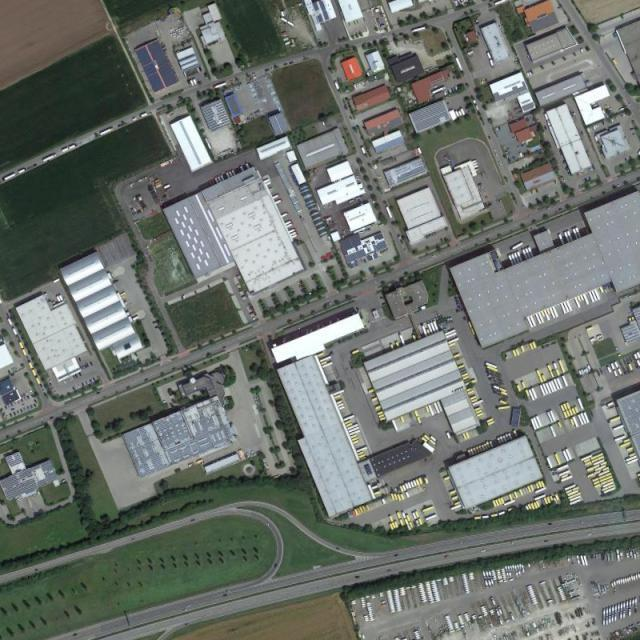vehicle: (99, 127, 114, 136), (43, 153, 57, 162), (212, 82, 227, 90)
